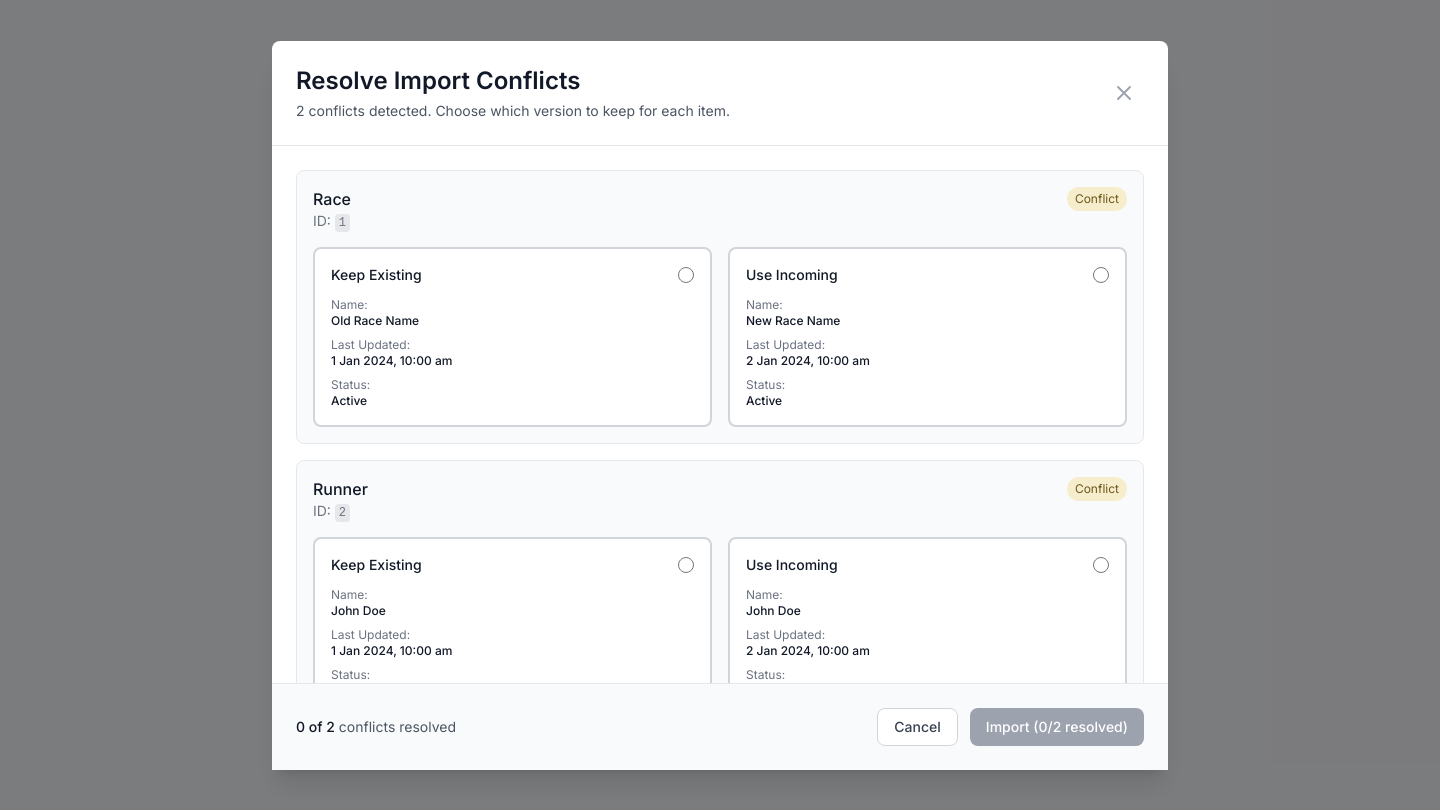
Test case: ConflictResolutionDialog › enables submit when all conflicts resolved
Click the 1st text "Keep Existing": [376, 274] box [331,264,422,284]
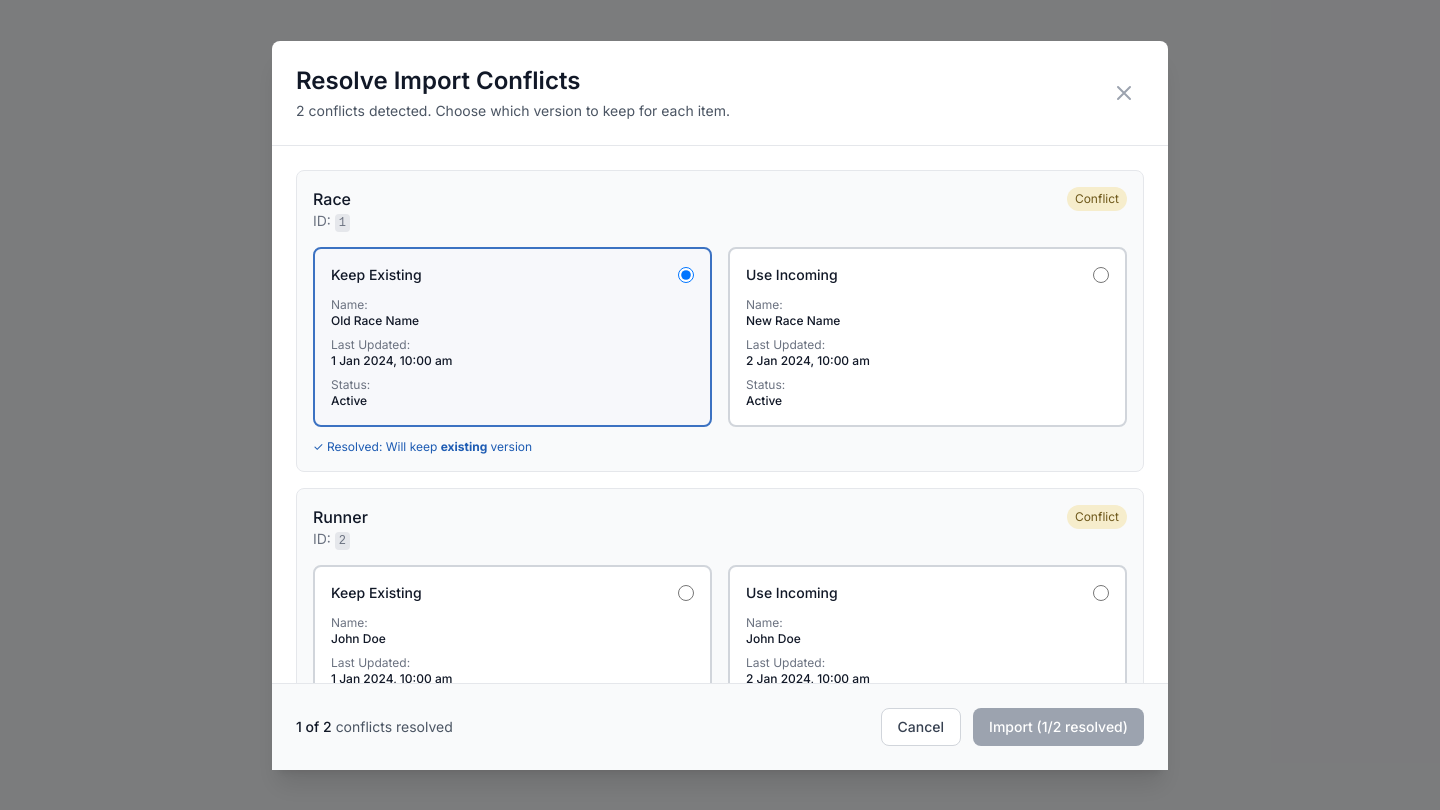
Click the text "Keep Existing" below "runner": [376, 592] box [331,582,422,602]
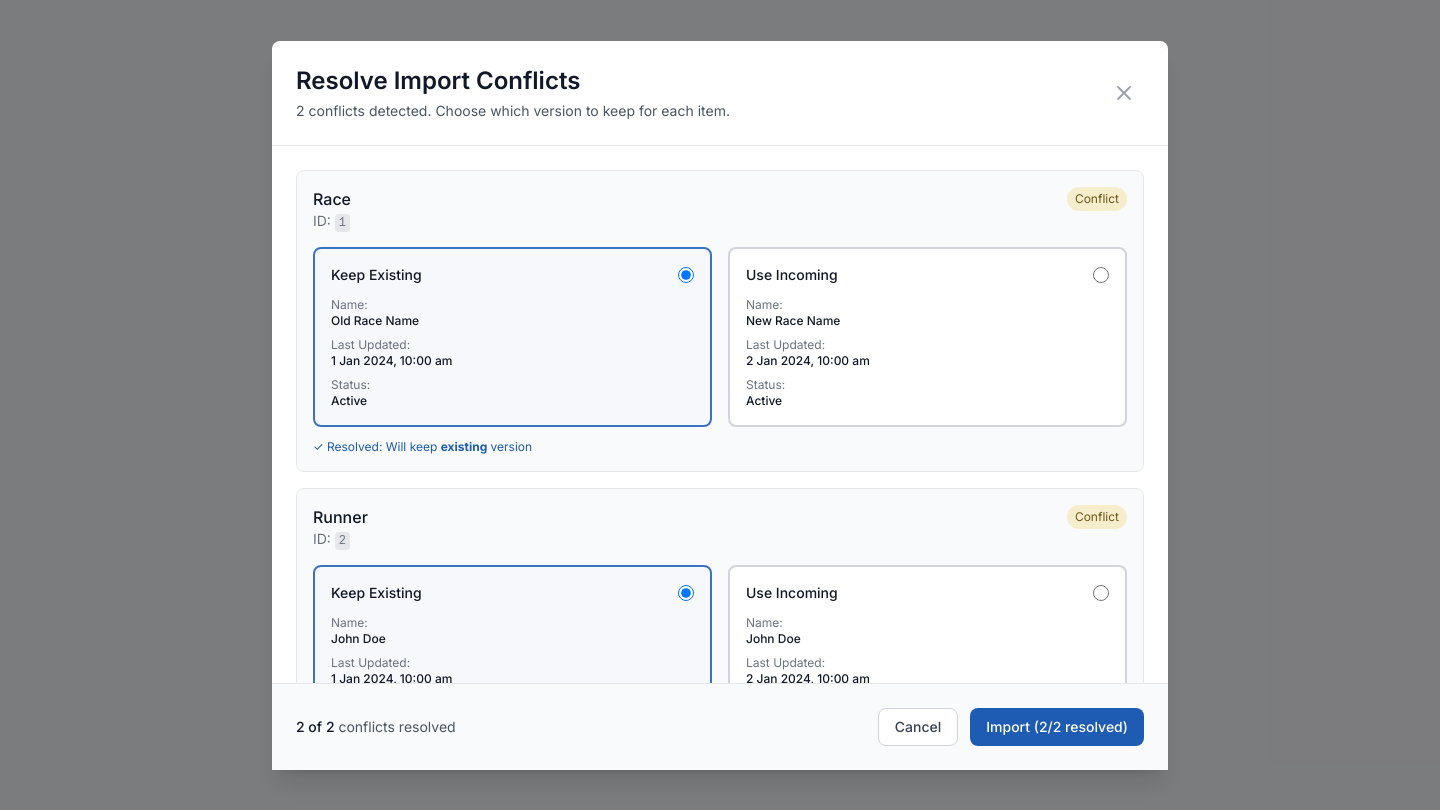
Now the button "Import (2/2 resolved)" is enabled, box [970,708,1144,746]
